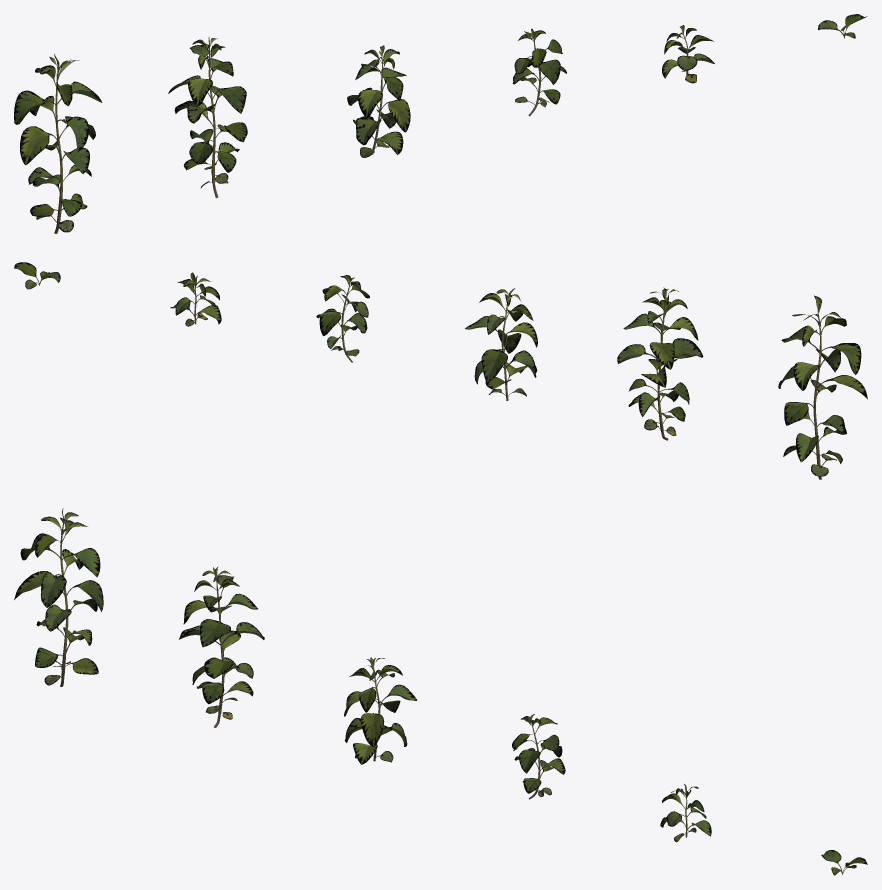
Rendered from nettle_plant.glb.
3 renders of one model, top to bottom at view 1: azimuth 30°, elevation 25°; view 2: azimuth 150°, elevation 25°; view 3: azimuth 330°, elevation 25°, orthographic.
Visible parts, largest first — view 1: nettle_plant_tall_a_LOD0, nettle_plant_tall_b_LOD0, nettle_plant_medium_a_LOD0, nettle_plant_medium_b_LOD0, nettle_plant_small_a_LOD0; view 2: nettle_plant_tall_a_LOD0, nettle_plant_tall_b_LOD0, nettle_plant_medium_a_LOD0, nettle_plant_medium_b_LOD0, nettle_plant_small_a_LOD0, nettle_plant_small_b_LOD0; view 3: nettle_plant_tall_a_LOD0, nettle_plant_tall_b_LOD0, nettle_plant_medium_a_LOD0, nettle_plant_medium_b_LOD0, nettle_plant_small_a_LOD0.
Boxes of the visible parts, left/top/right/bottom form: nettle_plant_tall_a_LOD0: left=14, top=54, right=102, bottom=233; nettle_plant_tall_b_LOD0: left=168, top=36, right=247, bottom=197; nettle_plant_medium_a_LOD0: left=347, top=45, right=410, bottom=157; nettle_plant_medium_b_LOD0: left=512, top=28, right=566, bottom=116; nettle_plant_small_a_LOD0: left=662, top=25, right=714, bottom=83; nettle_plant_tall_a_LOD0: left=778, top=295, right=867, bottom=479; nettle_plant_tall_b_LOD0: left=617, top=287, right=703, bottom=440; nettle_plant_medium_a_LOD0: left=465, top=288, right=537, bottom=400; nettle_plant_medium_b_LOD0: left=316, top=275, right=369, bottom=362; nettle_plant_small_a_LOD0: left=170, top=272, right=221, bottom=326; nettle_plant_small_b_LOD0: left=14, top=262, right=60, bottom=289; nettle_plant_tall_a_LOD0: left=14, top=508, right=103, bottom=686; nettle_plant_tall_b_LOD0: left=179, top=566, right=264, bottom=727; nettle_plant_medium_a_LOD0: left=344, top=657, right=417, bottom=764; nettle_plant_medium_b_LOD0: left=512, top=714, right=565, bottom=799; nettle_plant_small_a_LOD0: left=660, top=784, right=711, bottom=842.
Size of the model in its own units: 1.08 by 0.2184 by 0.0947.
Materials: 1 (1 with a texture image).
